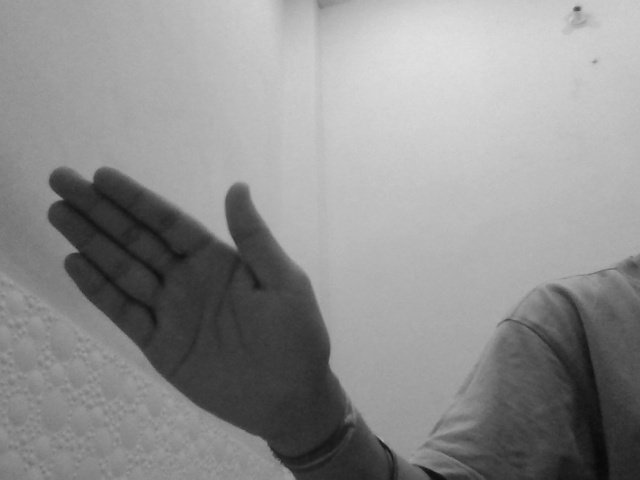Hello: (42, 163, 336, 442)
